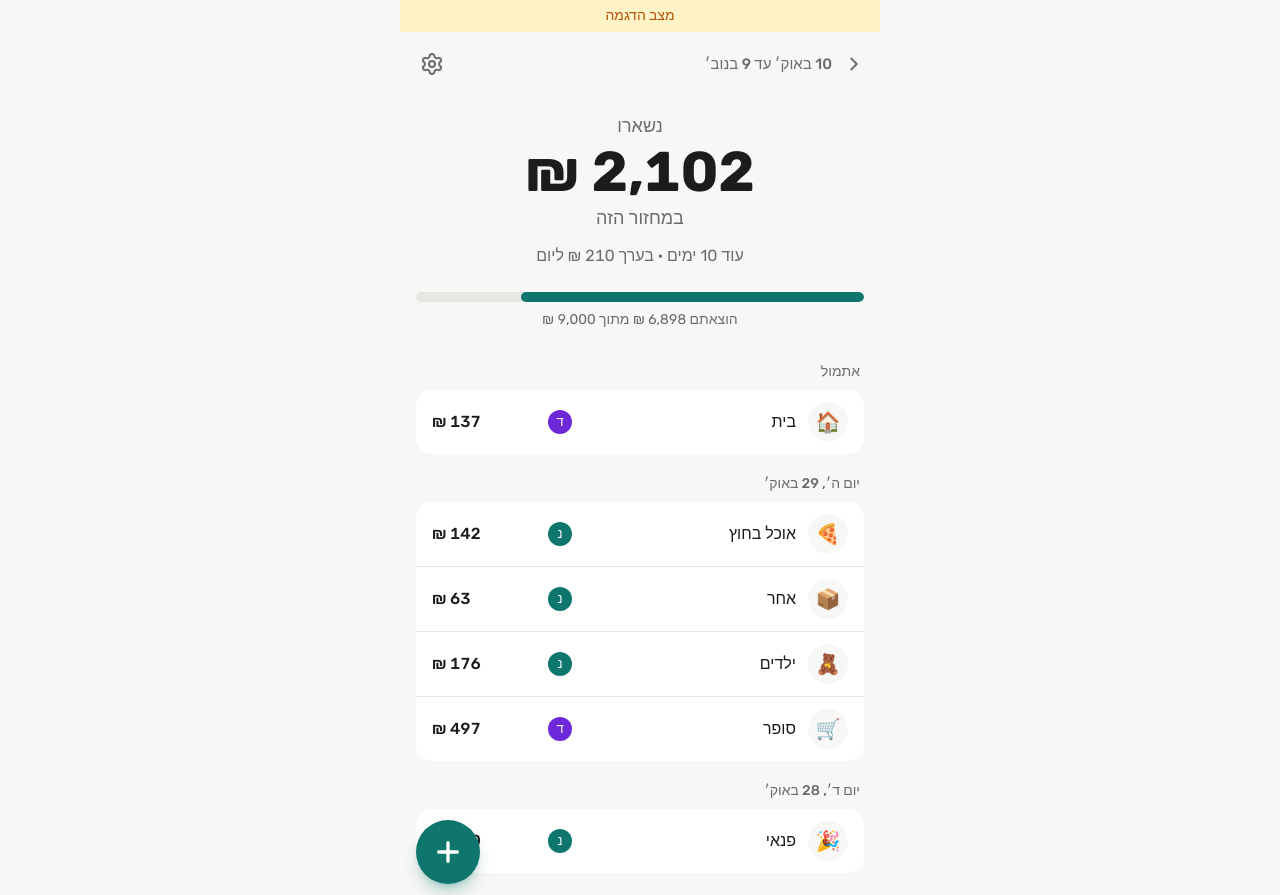
Test: history (earlier cycles) › shows the previous cycle, edits an expense there, and comes back to the current one
Expected: the button named "הוספת הוצאה" is shown, [416,820,480,884]
Click the button named "המחזור הקודם": (854, 64) [832,42,876,86]
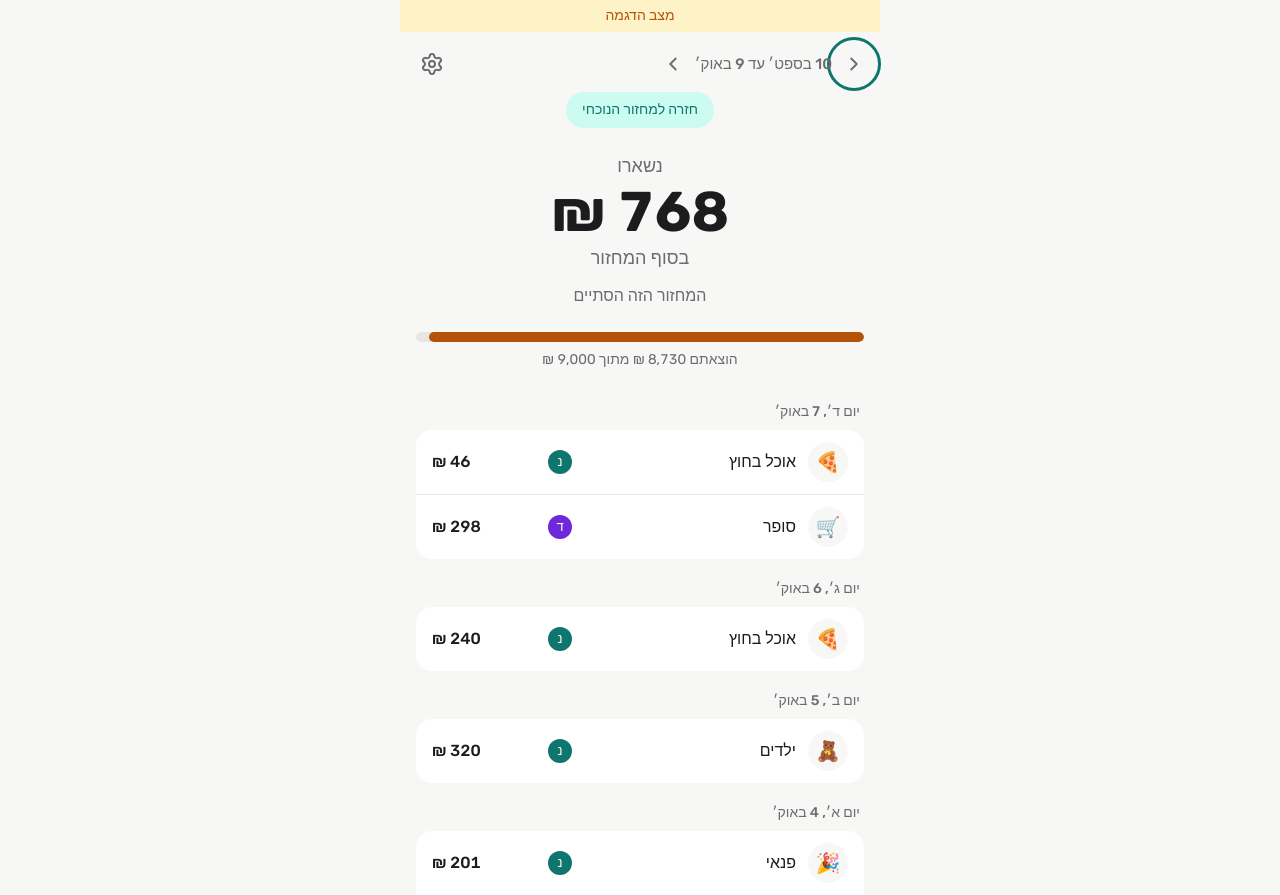
Expected: the button "חזרה למחזור הנוכחי" is shown, [566,92,714,128]
Expected: the heading "10 בספט׳ עד 9 באוק׳" is shown, [695,53,832,75]
Expected: the text "המחזור הזה הסתיים" is shown, [574,286,706,305]
Click the link "🍕 אוכל בחוץ נ  46  ₪": (828, 462) [416,430,864,494]
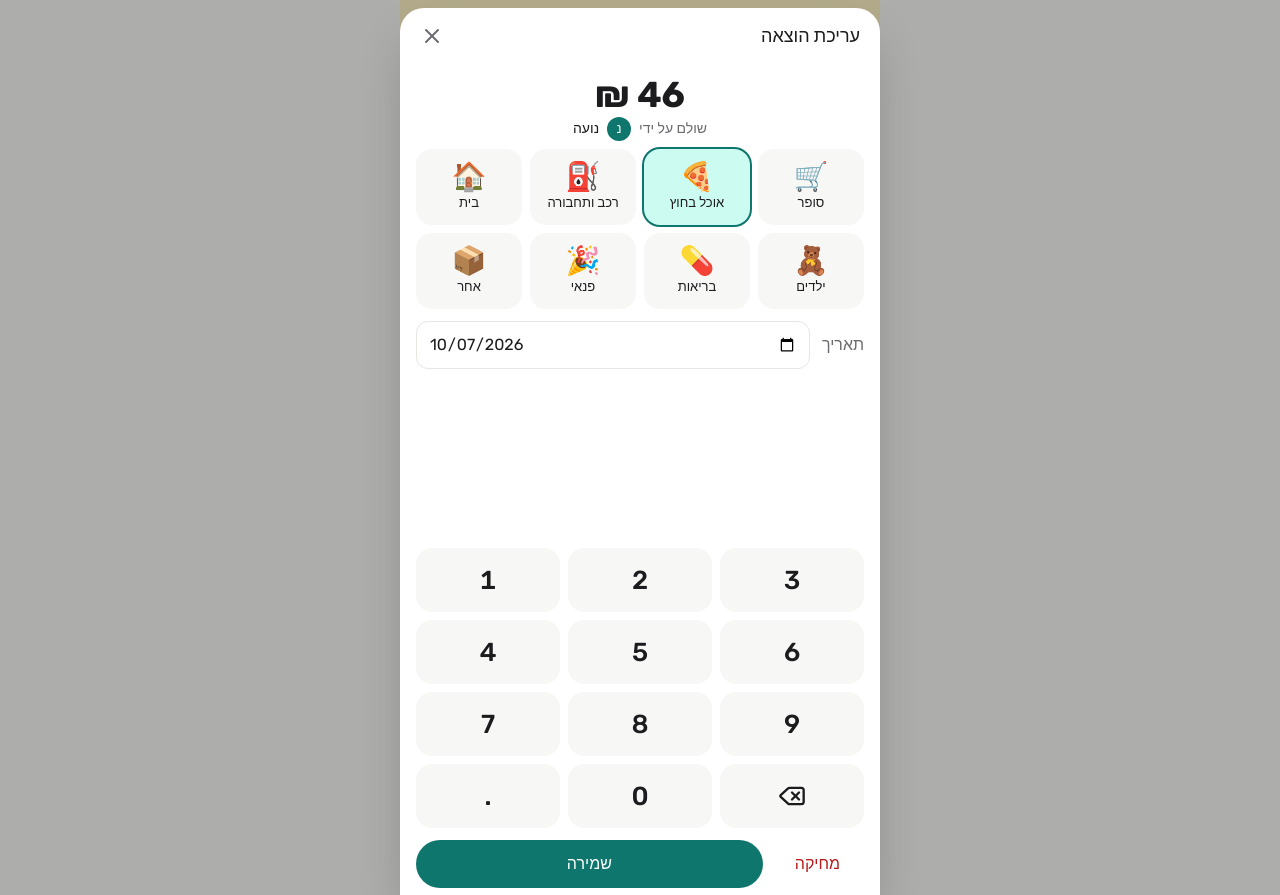
Click the button "🛒 סופר": (811, 187) [758,149,864,225]
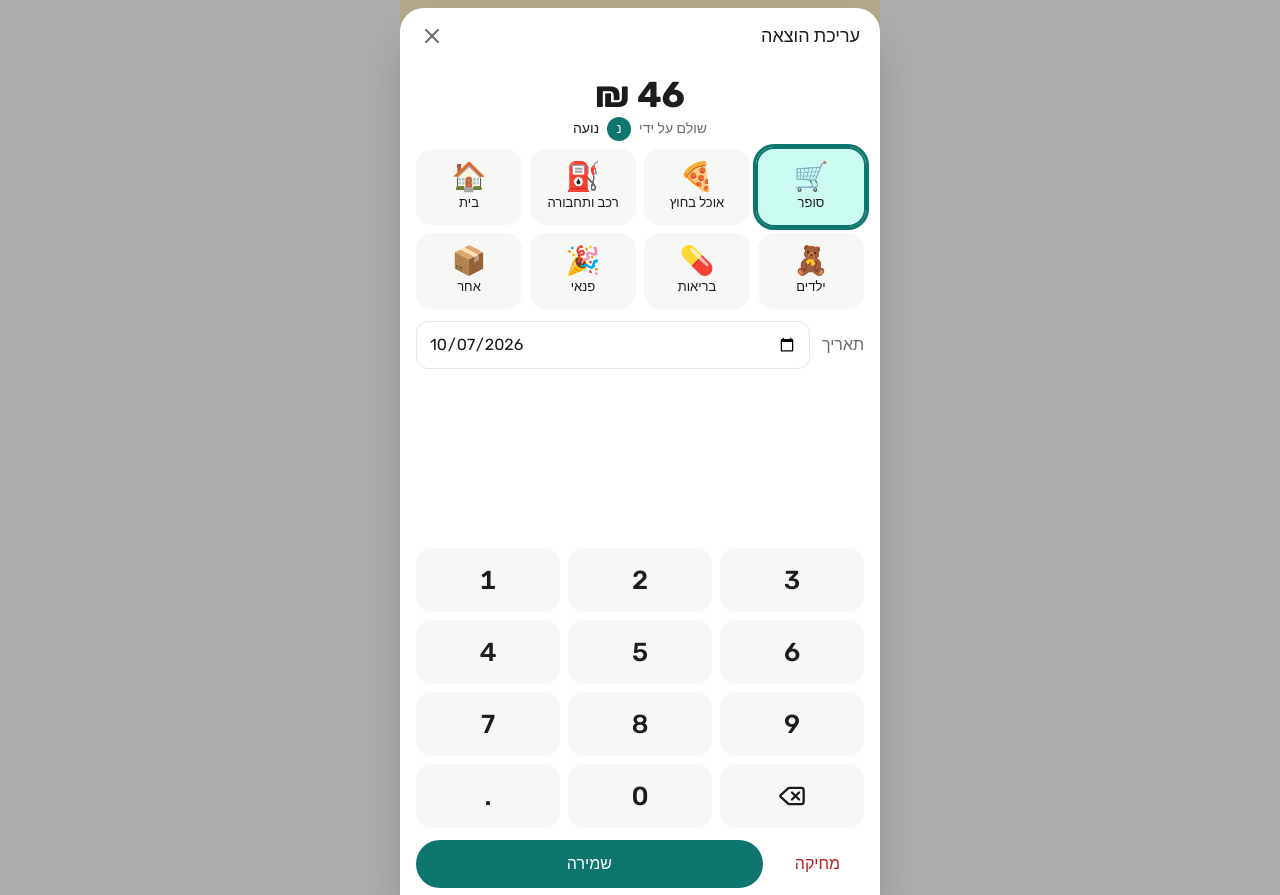
Click the button "שמירה": (589, 864) [416,840,763,888]
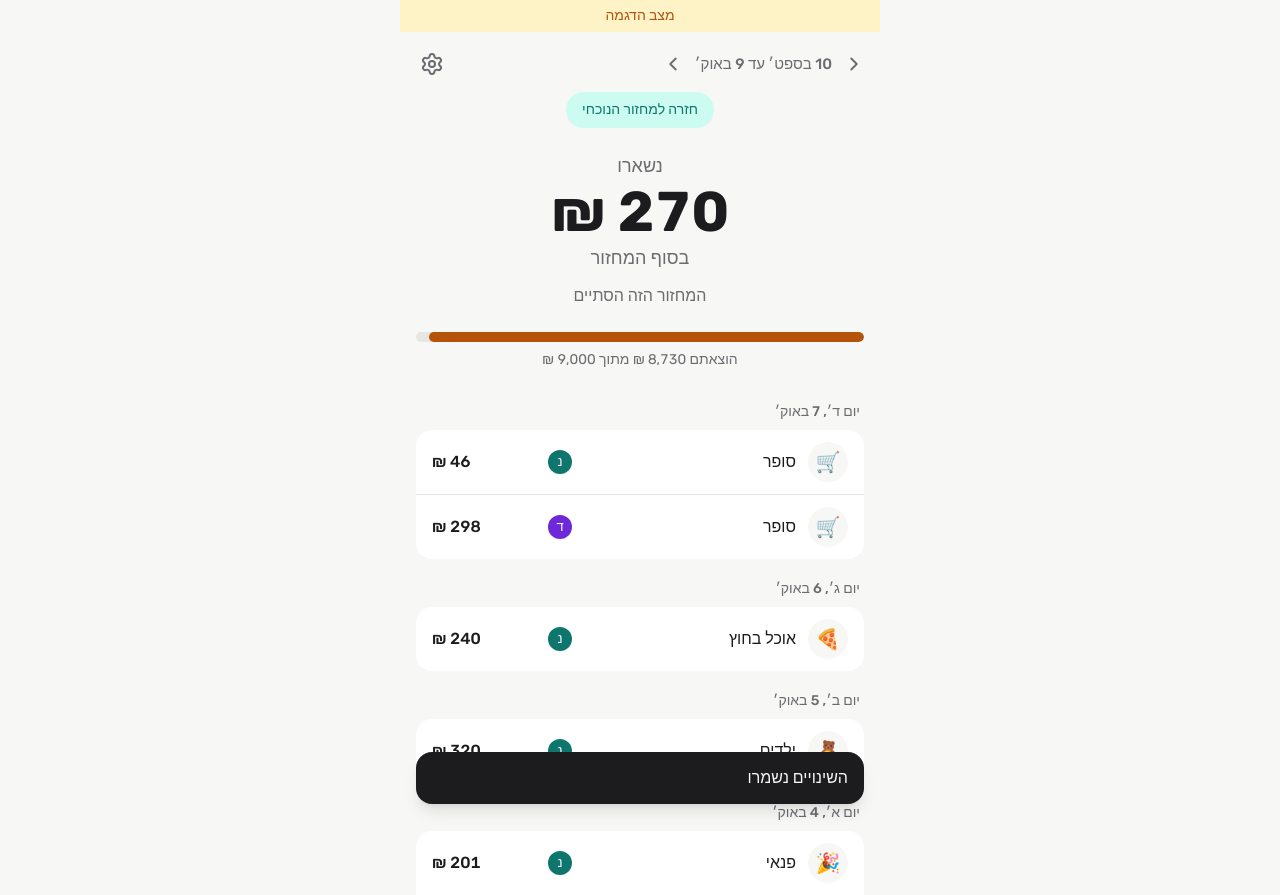
Expected: the heading "10 בספט׳ עד 9 באוק׳" is shown, [695,53,832,75]
Expected: the text "השינויים נשמרו" is shown, [748,768,848,787]
Click the button "חזרה למחזור הנוכחי": (640, 110) [566,92,714,128]
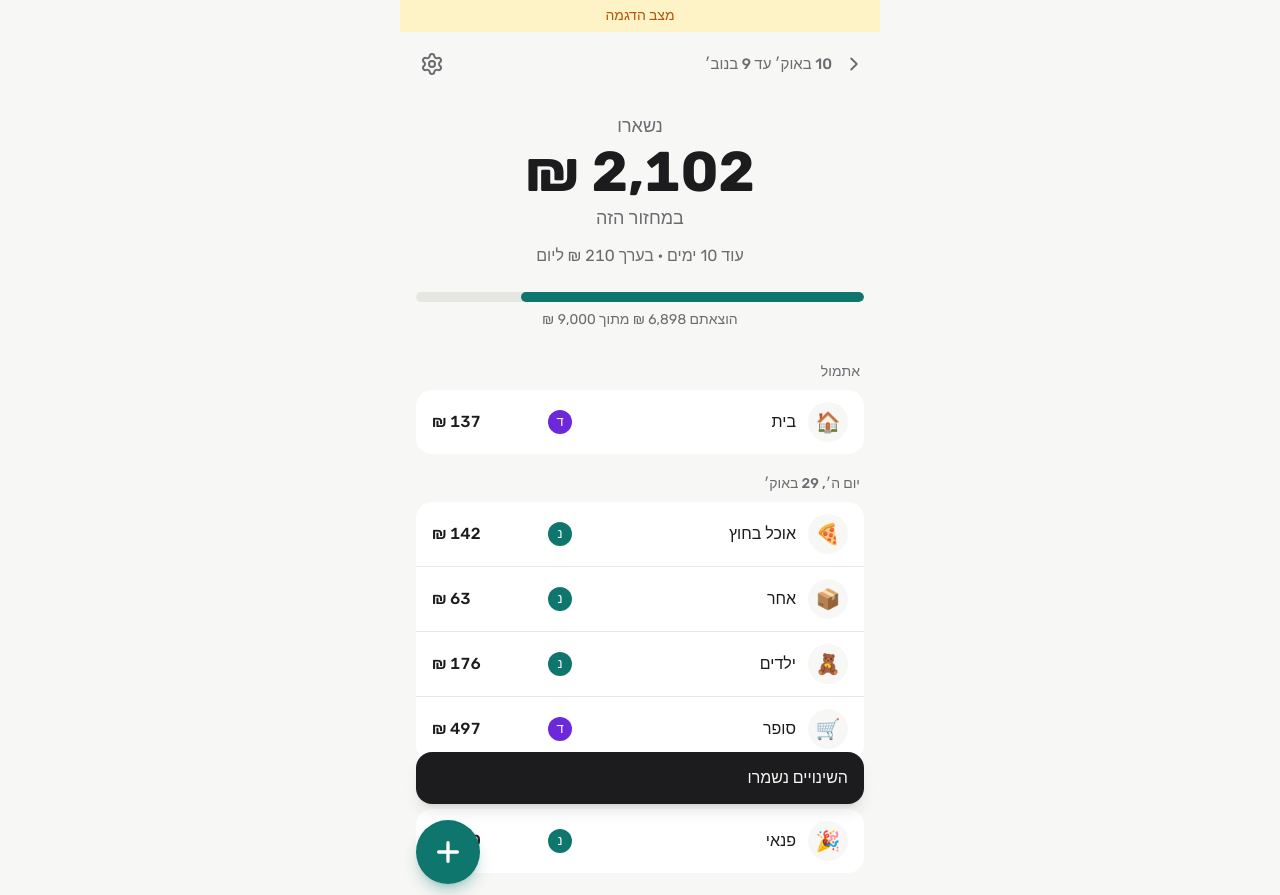
Expected: the button named "הוספת הוצאה" is shown, [416,820,480,884]
